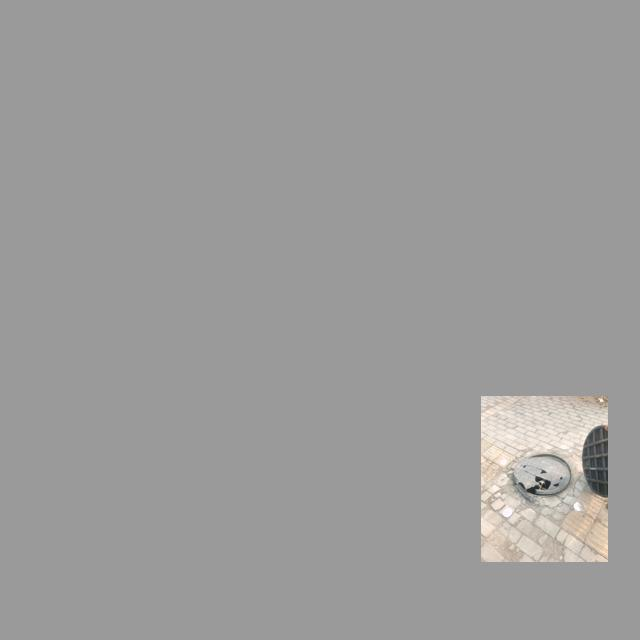broke: (514, 452, 574, 497)
